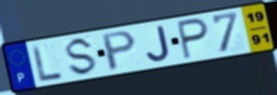7: (212, 11, 242, 56)
J: (144, 24, 172, 64)
L: (30, 43, 65, 84)
P: (101, 29, 138, 73), (176, 16, 211, 61)
S: (64, 35, 99, 77)
